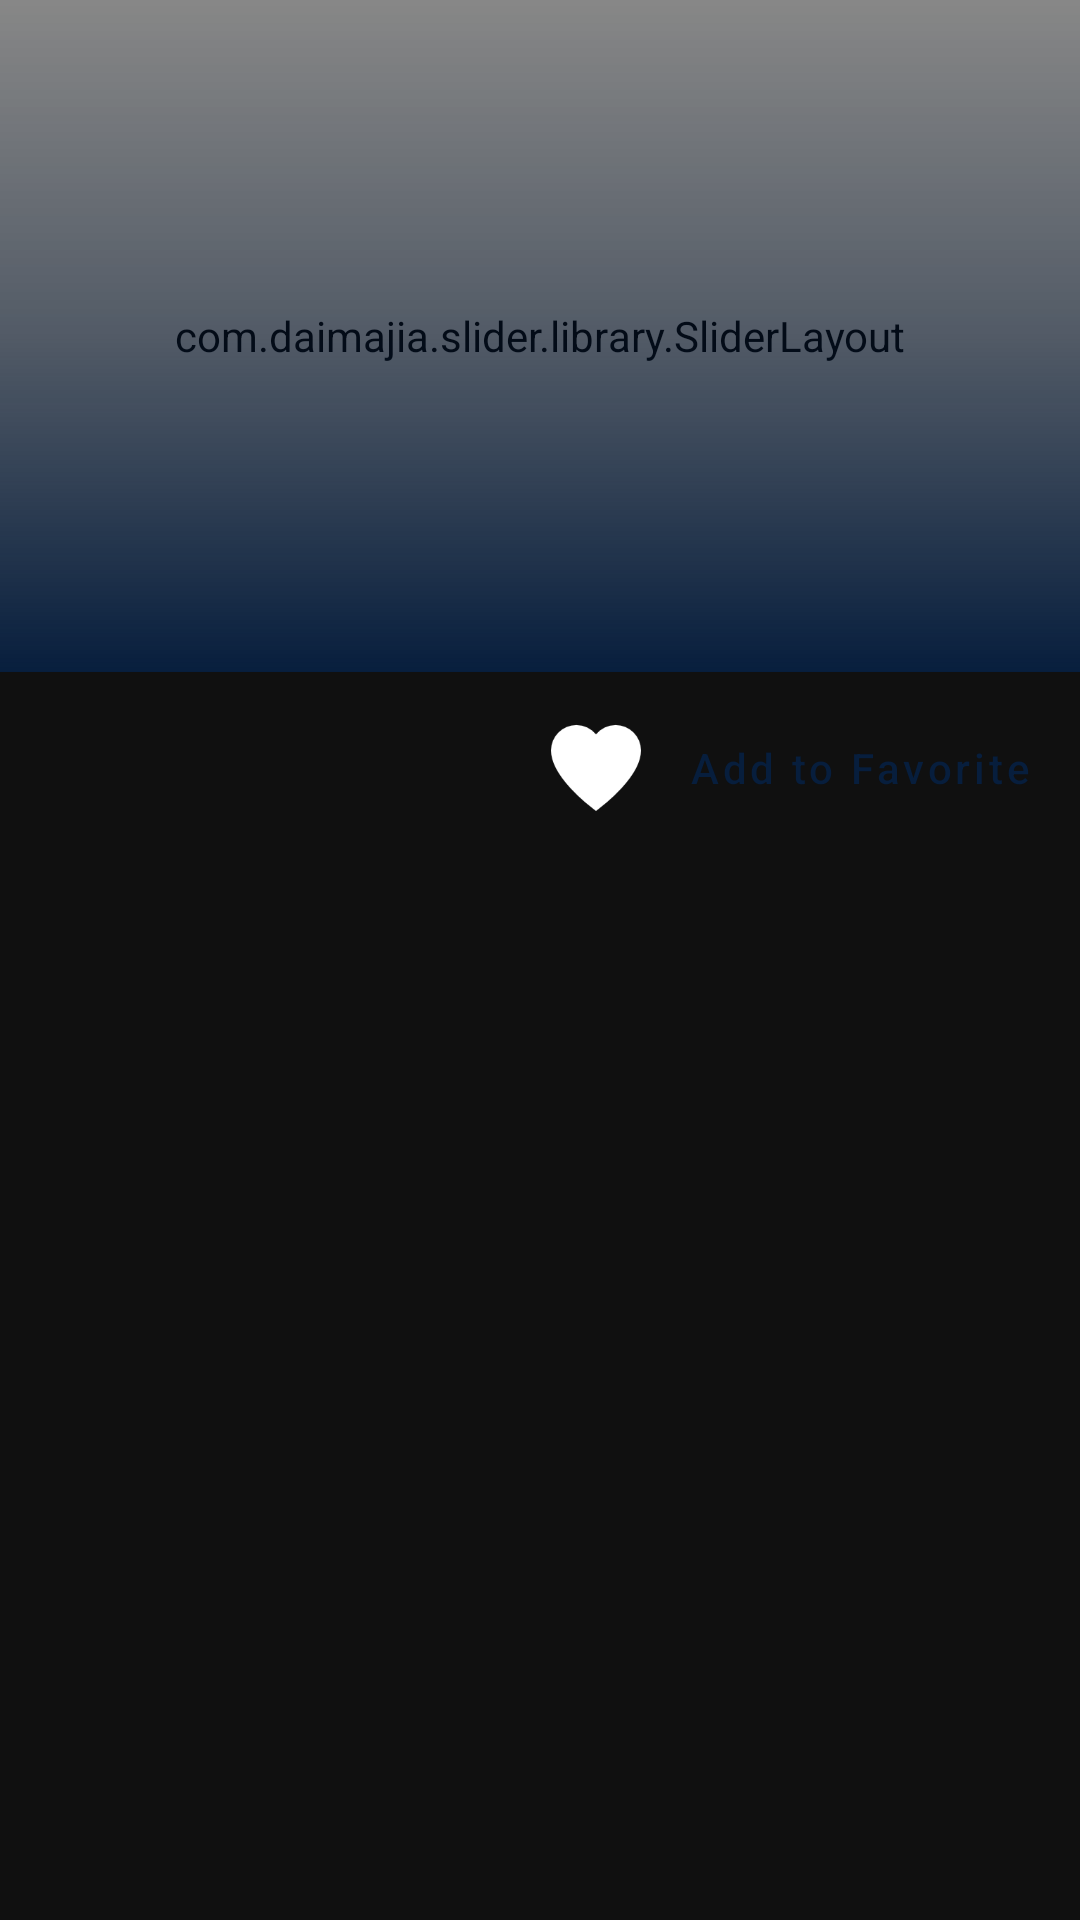

Point at icon controls on the screen. Image size 1080w x 1920h, points as [x,y].
heart: [596,768]
